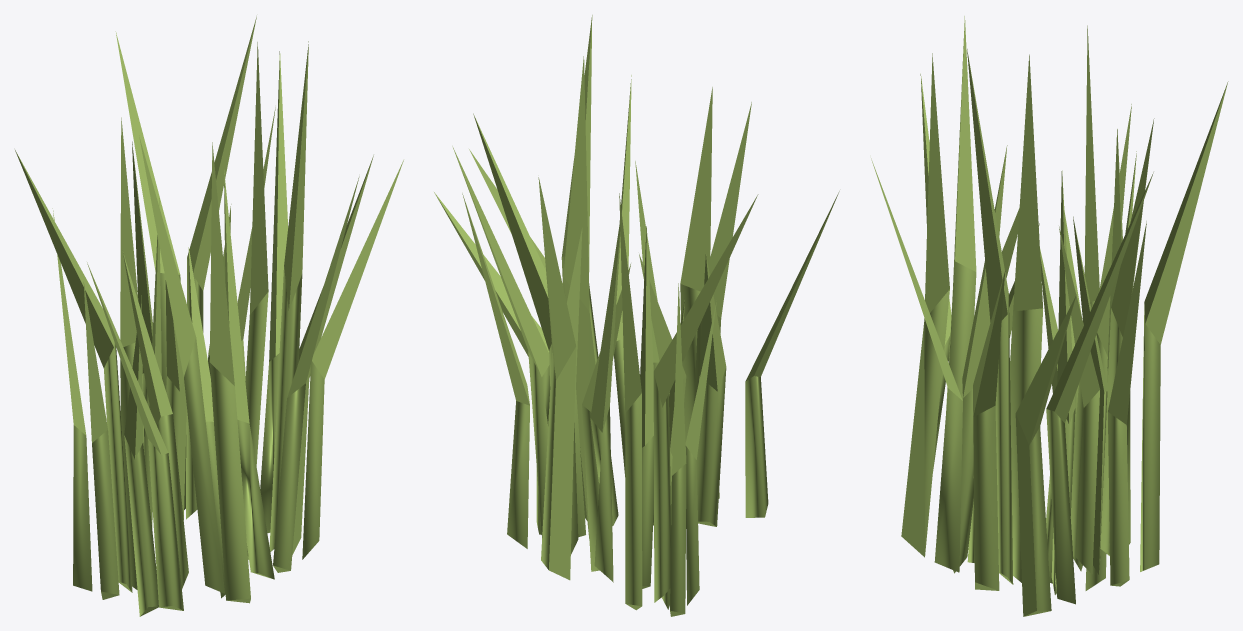
File: grass.dae
The picture shows the model from 3 angles, left to right: view 1: azimuth 30°, elevation 25°; view 2: azimuth 150°, elevation 25°; view 3: azimuth 270°, elevation 25°; orthographic projection. The views are drawn at different scales.
Parts seen in each view (by area): view 1: grass.002; view 2: grass.002; view 3: grass.002.
Boxes of the visible parts, x1,y1,x2,y2 form: grass.002: (15, 16, 403, 616); grass.002: (434, 15, 839, 616); grass.002: (871, 16, 1228, 616).
Bounding box in the file's own units: 1.49 × 1.22 × 2.26.
Materials: 1 (1 with a texture image).
